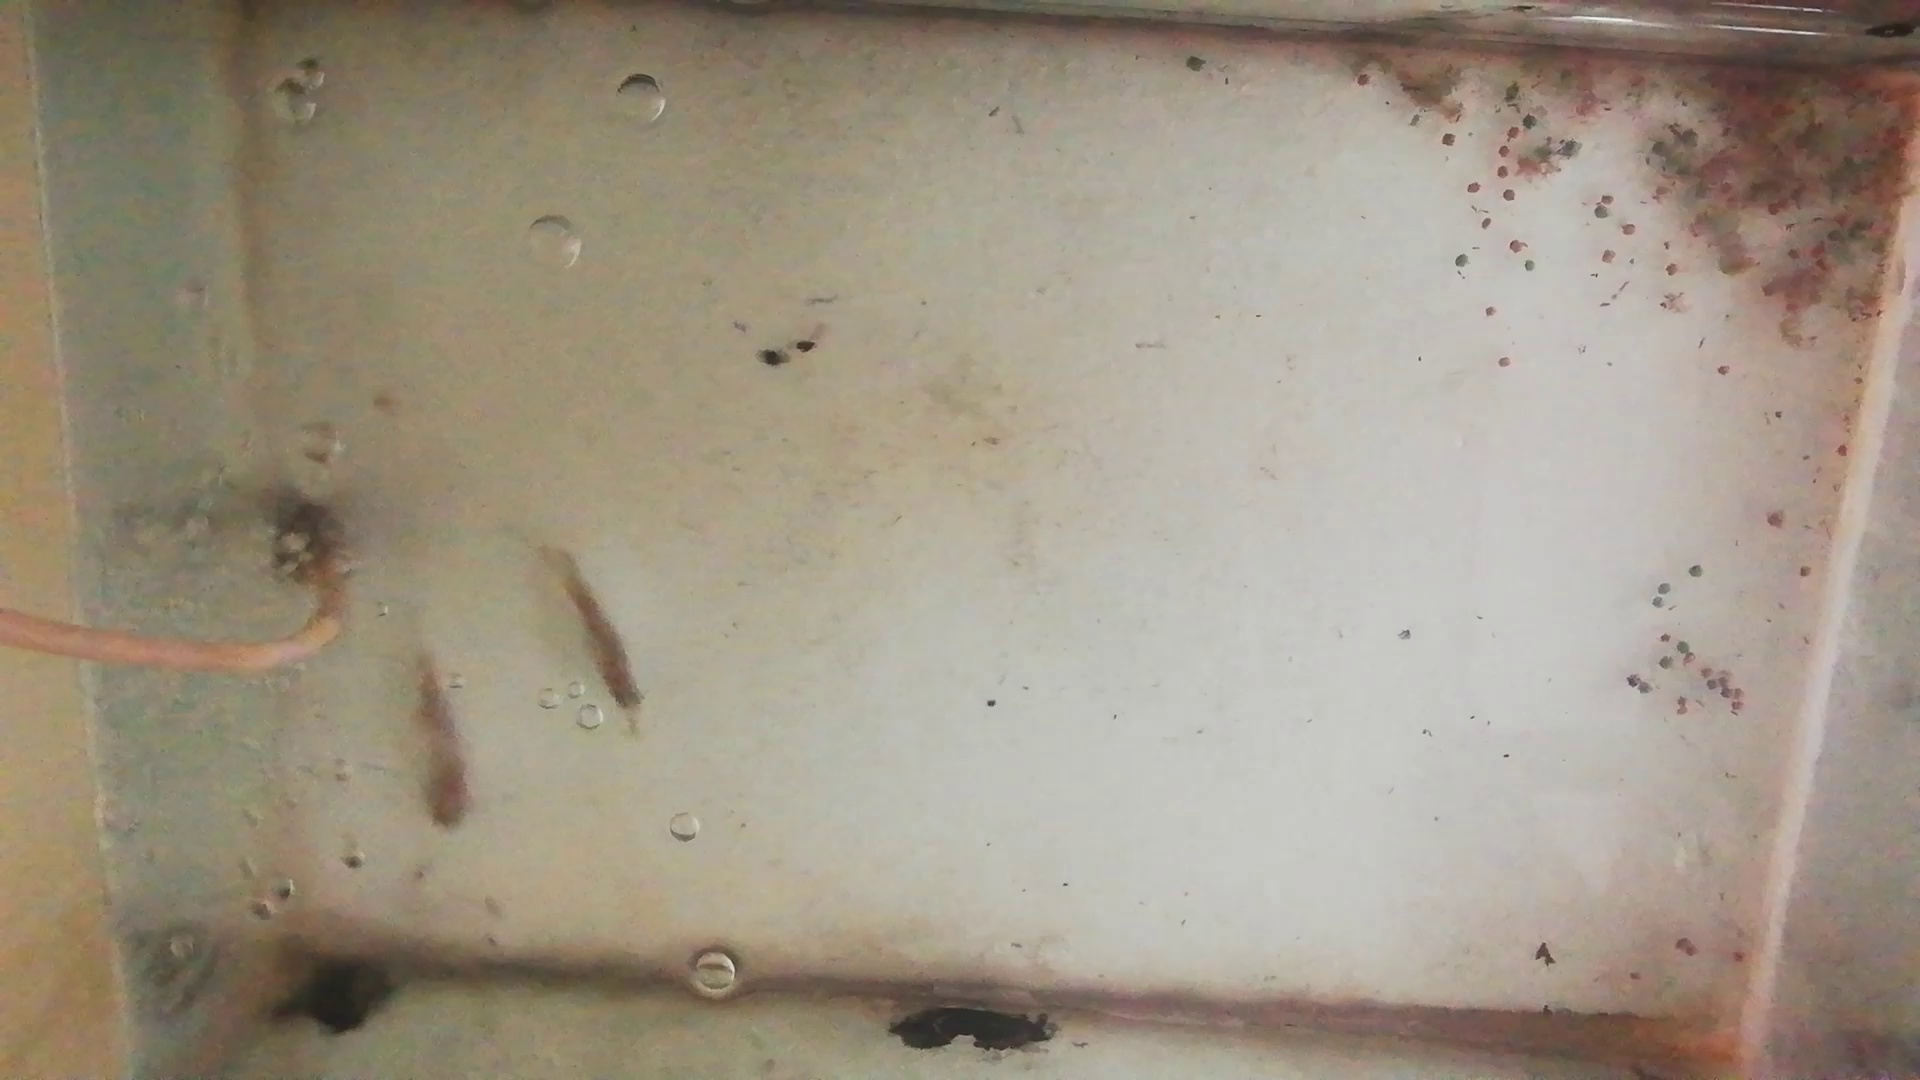fish: (543, 549, 646, 719), (411, 659, 475, 832)
